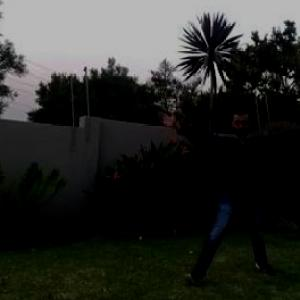takeoff: (175, 99, 299, 274)
